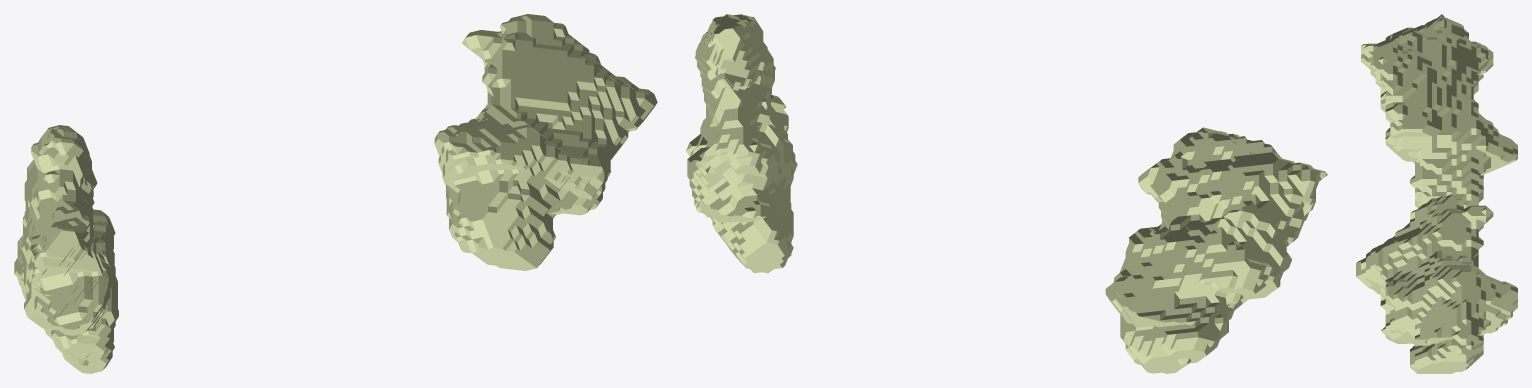
Rendered from region_0005_APN__accessory_pretectal_nucleus_.glb.
3 renders of one model, left to right at view 1: azimuth 30°, elevation 25°; view 2: azimuth 150°, elevation 25°; view 3: azimuth 270°, elevation 25°, orthographic. The views are drawn at different scales.
Visible parts, largest first — view 1: world; view 2: world; view 3: world.
Part boxes in pixels (bbox=[...]): world: bbox=[14, 14, 657, 373]; world: bbox=[686, 14, 1327, 373]; world: bbox=[1356, 14, 1517, 373].
Size of the model in its own units: 0.888 by 0.336 by 0.264.
